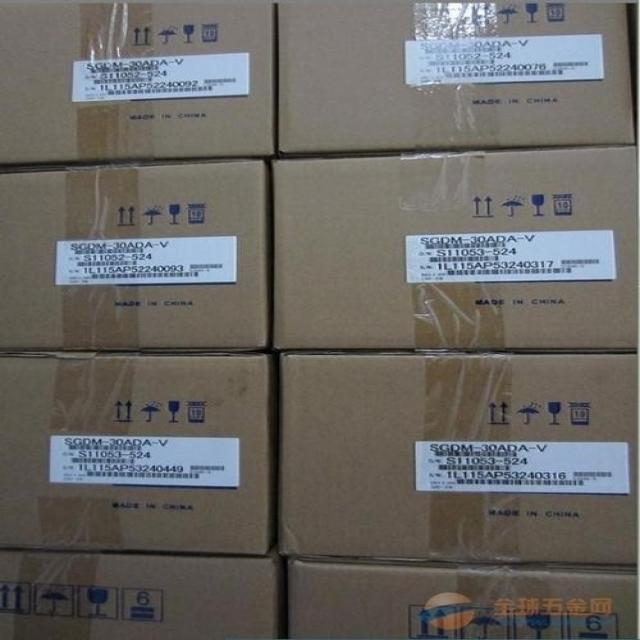box: (269, 144, 640, 354), (279, 354, 640, 566), (276, 0, 640, 156), (0, 351, 268, 554), (0, 160, 268, 352), (0, 0, 275, 165), (283, 555, 640, 640), (0, 549, 282, 640)
